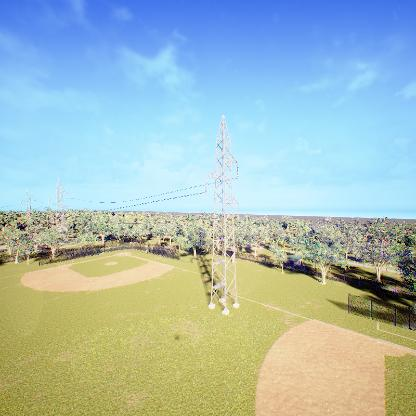tower: (203, 109, 241, 310)
